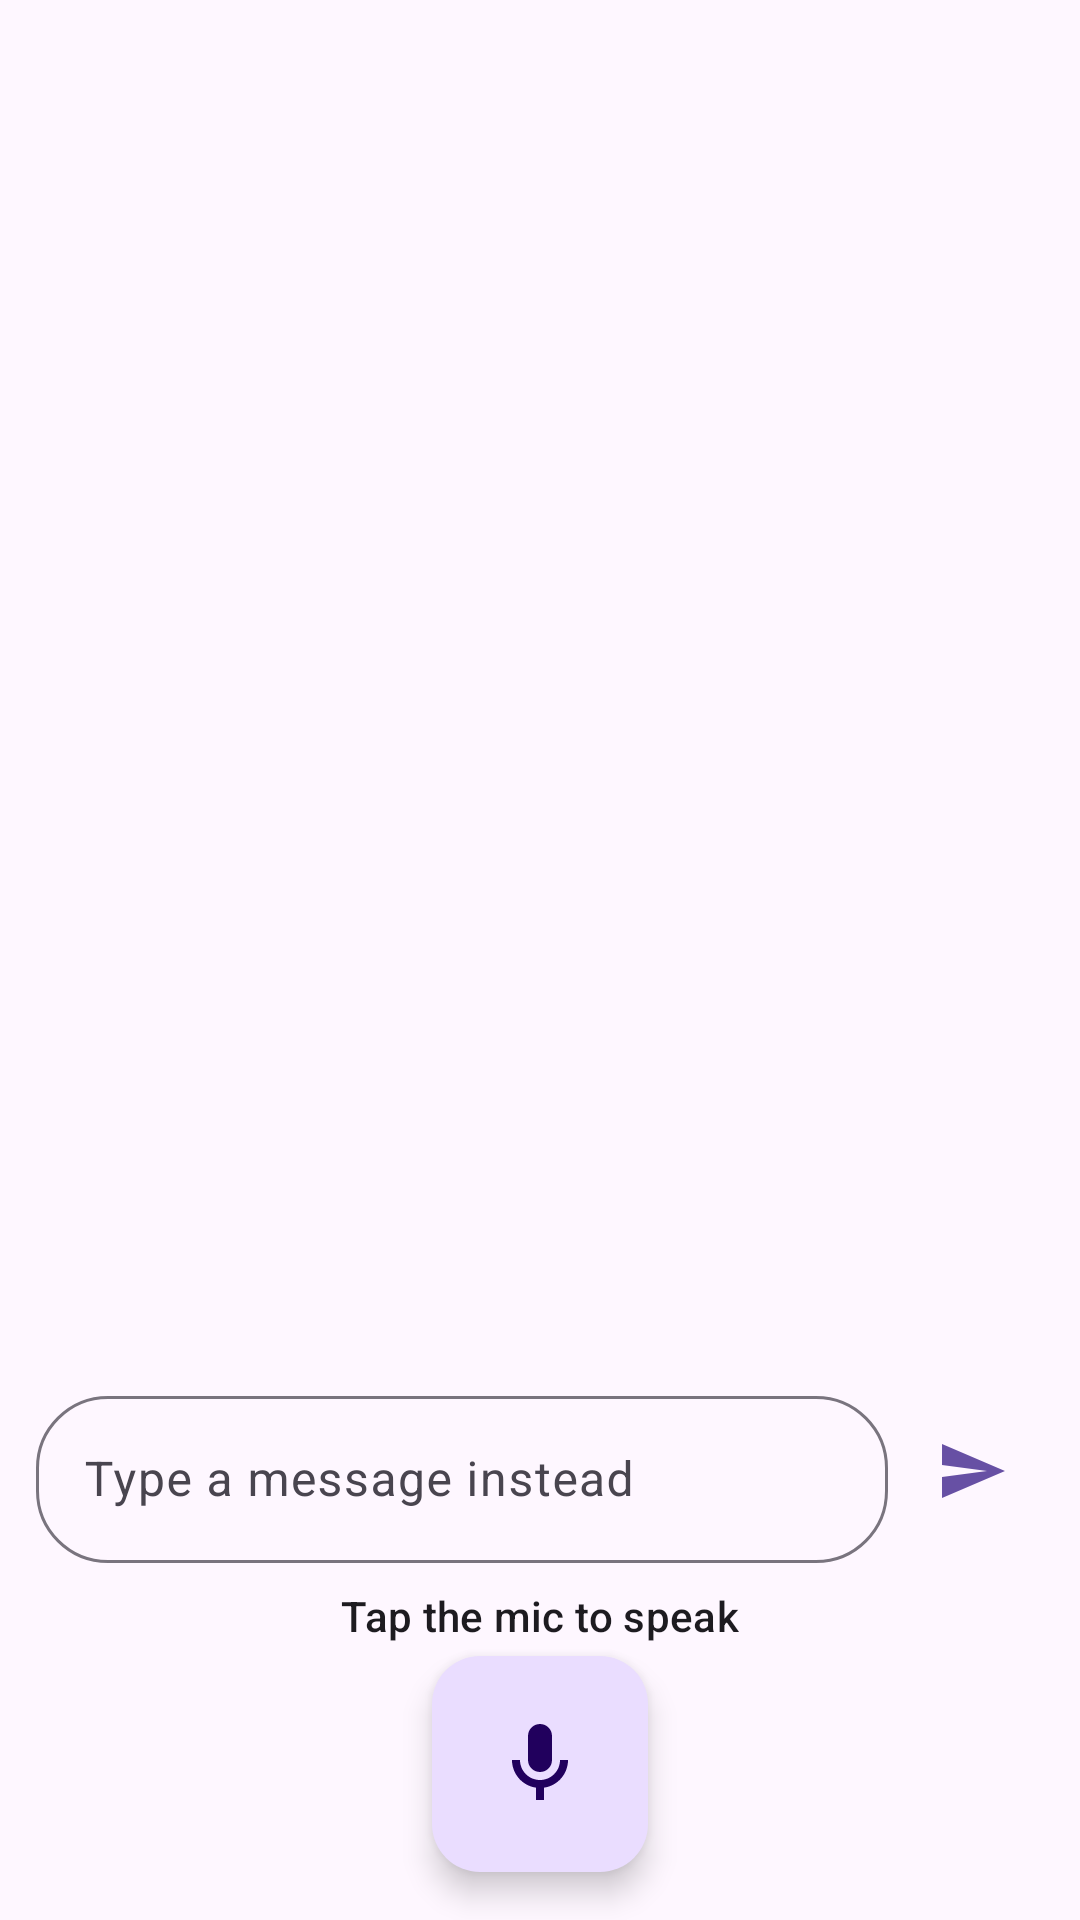

Named icons in this screenshot (1080 × 1920) and their centers, (x,y):
Send: (973,1471)
